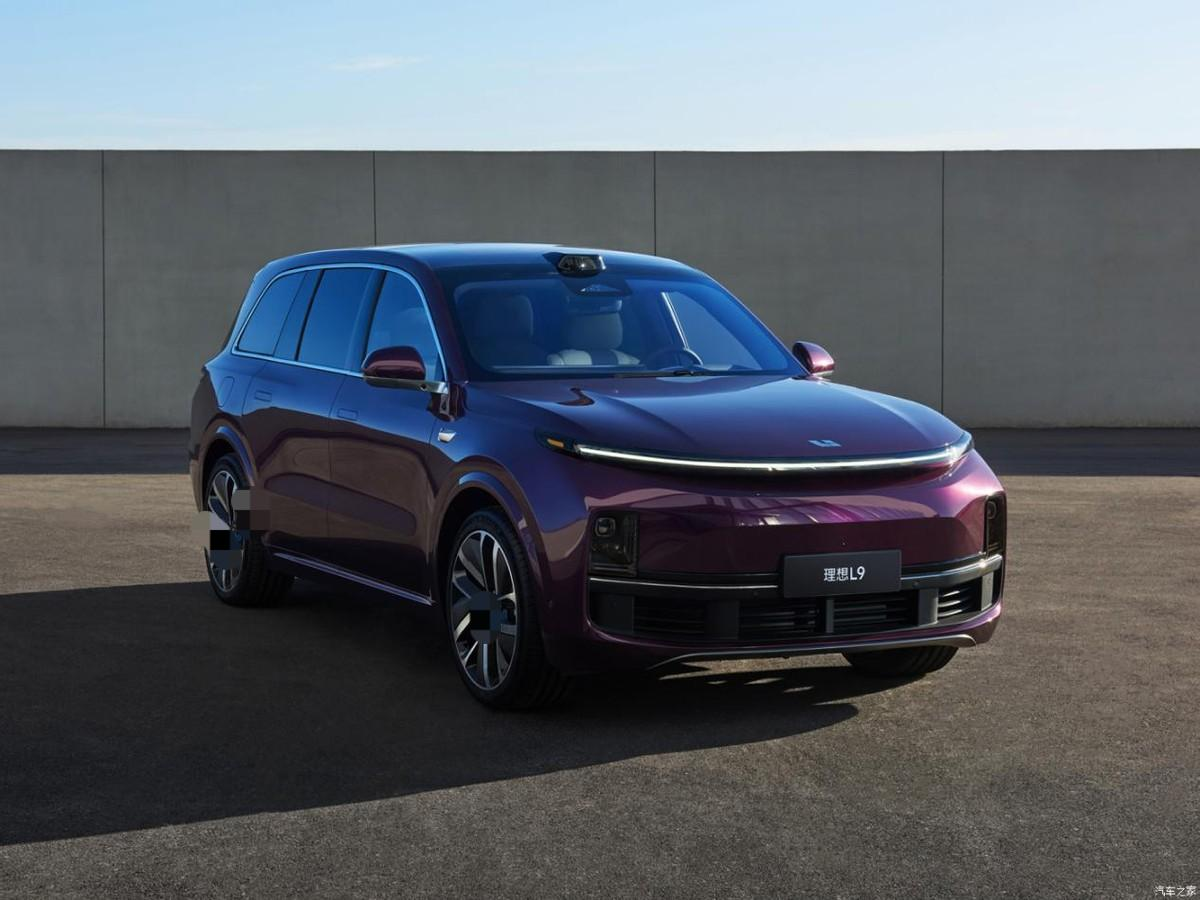Li Auto: (808, 438, 843, 448)
